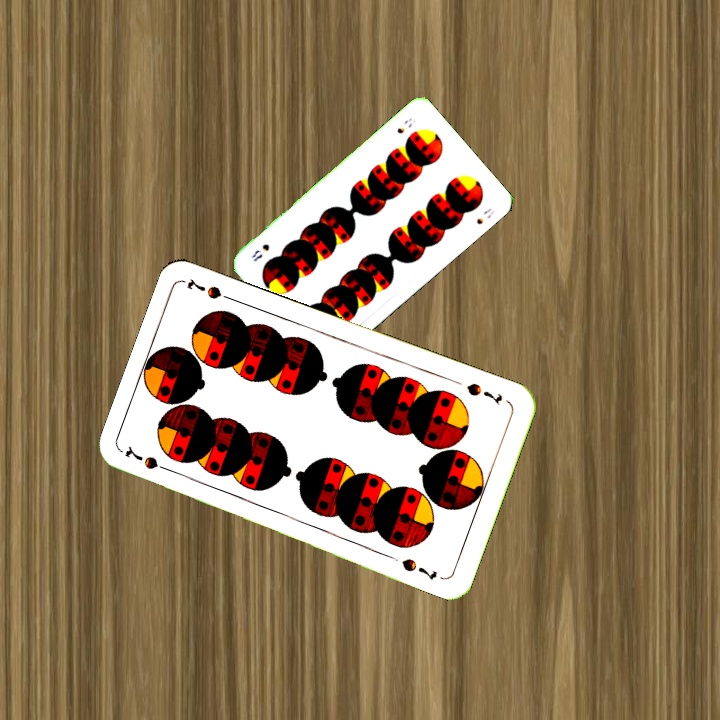S7: (121, 445, 177, 476), (462, 379, 505, 407)
S8: (393, 114, 418, 136)
